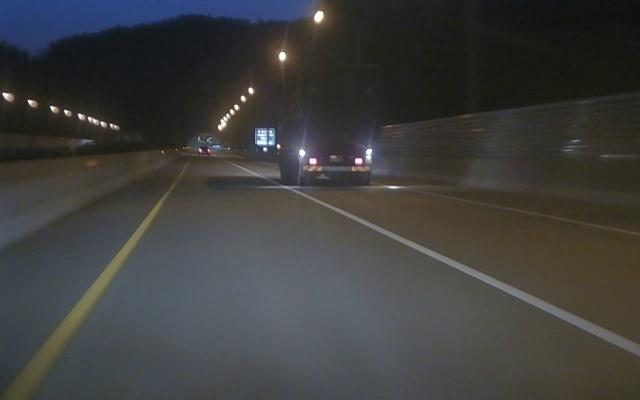lane: (299, 192, 639, 356), (4, 192, 167, 399), (475, 200, 640, 236)
